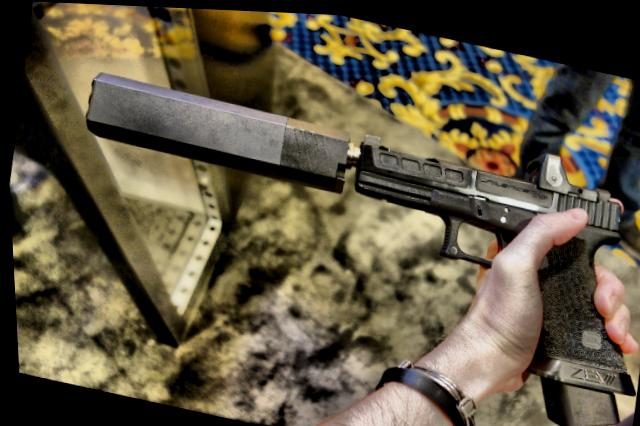pistol: (312, 108, 640, 426)
